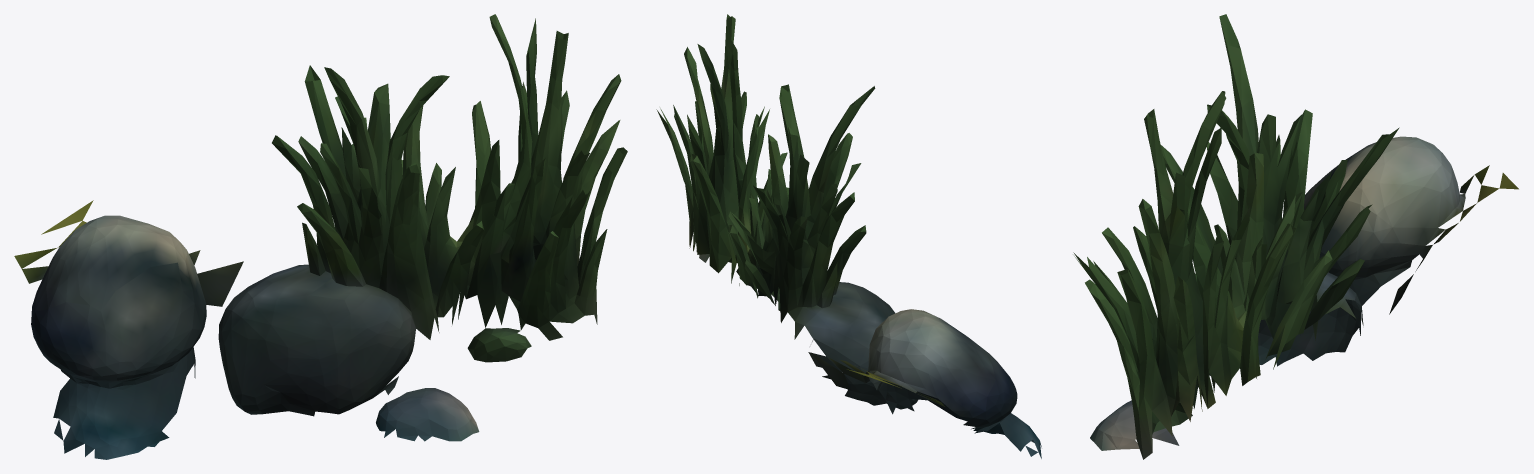
The model's file is terrain3_plant_1.glb.
The picture shows the model from 3 angles, left to right: view 1: azimuth 30°, elevation 25°; view 2: azimuth 150°, elevation 25°; view 3: azimuth 270°, elevation 25°; orthographic projection. The views are drawn at different scales.
Parts seen in each view (by area): view 1: plant_1; view 2: plant_1; view 3: plant_1.
Part boxes in pixels (x1,y1,x2,y2): plant_1: (14, 14, 627, 459); plant_1: (656, 14, 1041, 458); plant_1: (1073, 14, 1518, 459).
Bounding box in the file's own units: 16.22 × 11.35 × 11.35.
Materials: 1 (1 with a texture image).
